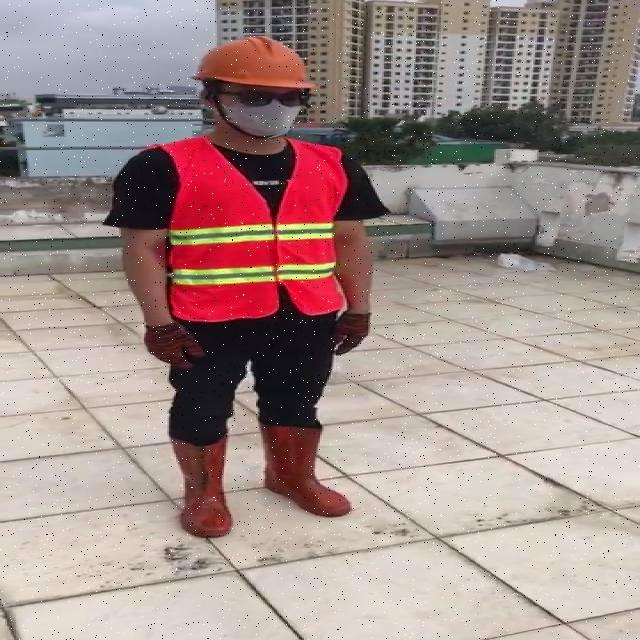Hard_hat: (188, 30, 321, 101)
Person: (97, 26, 383, 548)
Vest: (163, 133, 346, 328)
